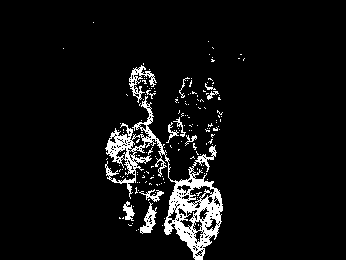person: (183, 158, 224, 258), (104, 123, 137, 229), (137, 123, 164, 233), (124, 63, 159, 127), (201, 76, 224, 161), (166, 119, 194, 182), (178, 77, 199, 146)
